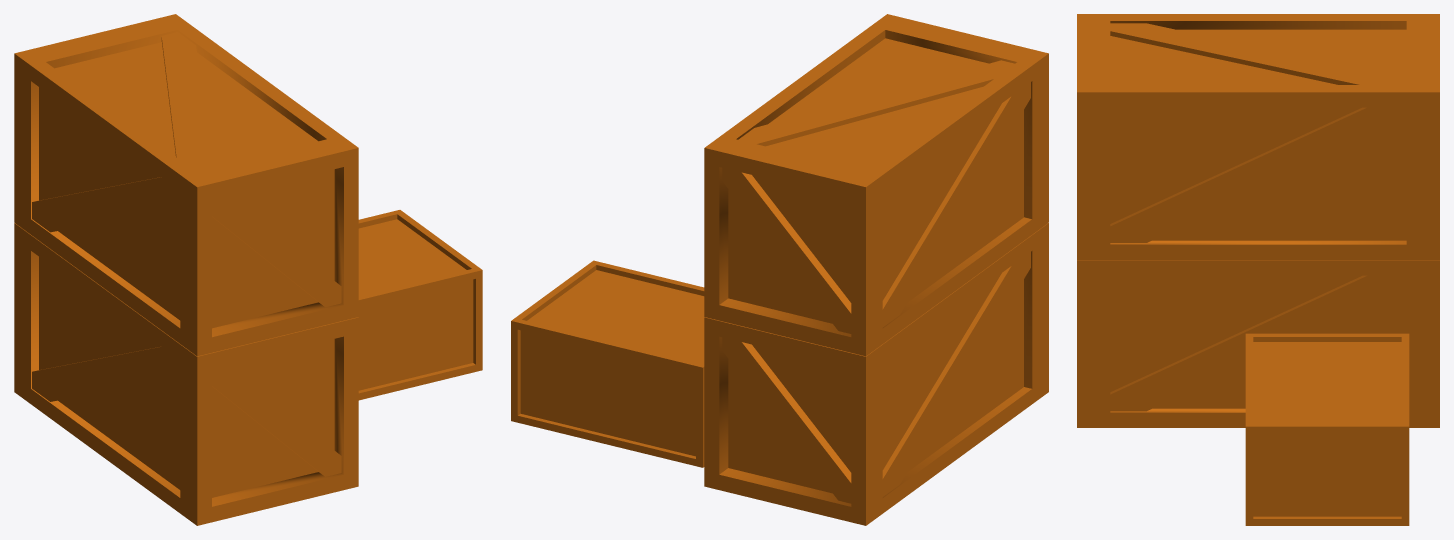
Rendered from Prop_Boxes_C.fbx.
The picture shows the model from 3 angles, left to right: view 1: azimuth 30°, elevation 25°; view 2: azimuth 150°, elevation 25°; view 3: azimuth 270°, elevation 25°; orthographic projection.
Parts seen in each view (by area): view 1: Prop_Boxes_C; view 2: Prop_Boxes_C; view 3: Prop_Boxes_C.
Boxes of the visible parts, box(x1,y1,x2,y2) form: Prop_Boxes_C: box(14, 14, 482, 525); Prop_Boxes_C: box(511, 14, 1048, 525); Prop_Boxes_C: box(1077, 14, 1439, 525).
Size of the model in its own units: 129 by 151 by 132.
